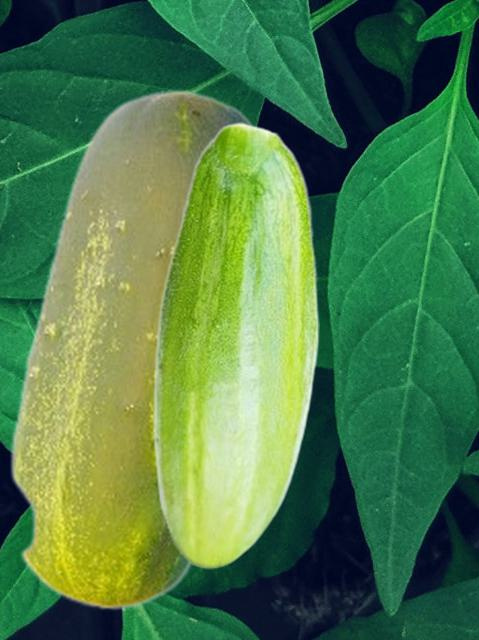cucumber: (8, 88, 255, 610), (152, 122, 318, 568)
